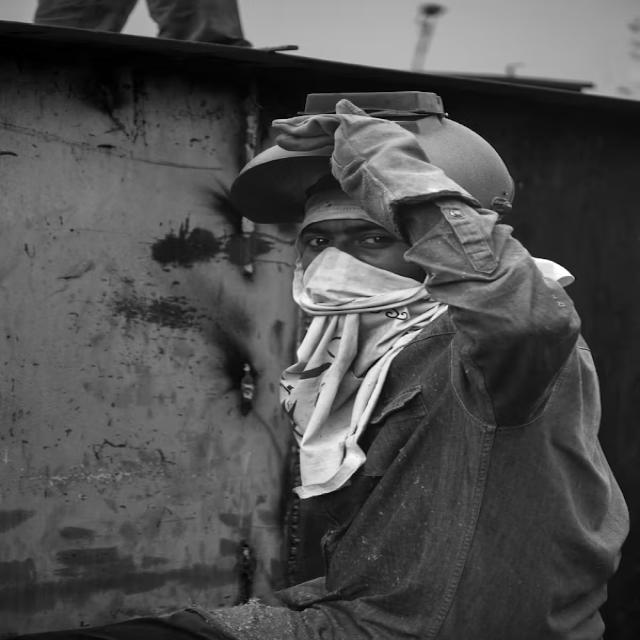helmet_lifted: (210, 82, 546, 318)
